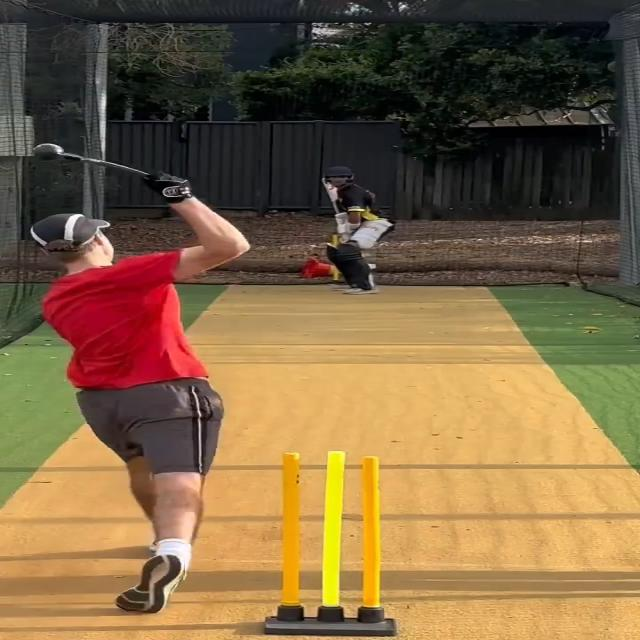stump: (263, 450, 398, 640)
